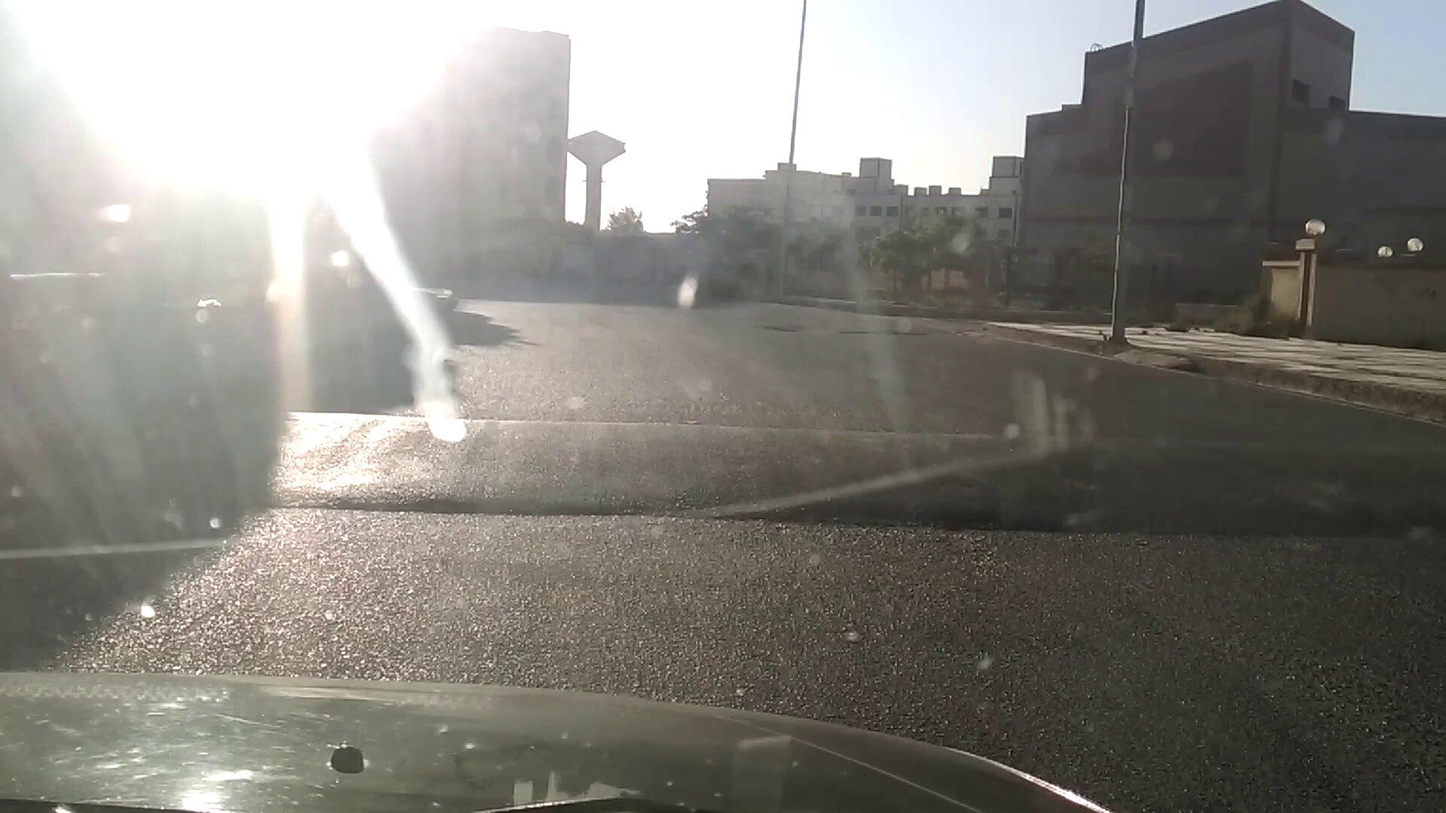Bump: (299, 393, 1446, 568)
